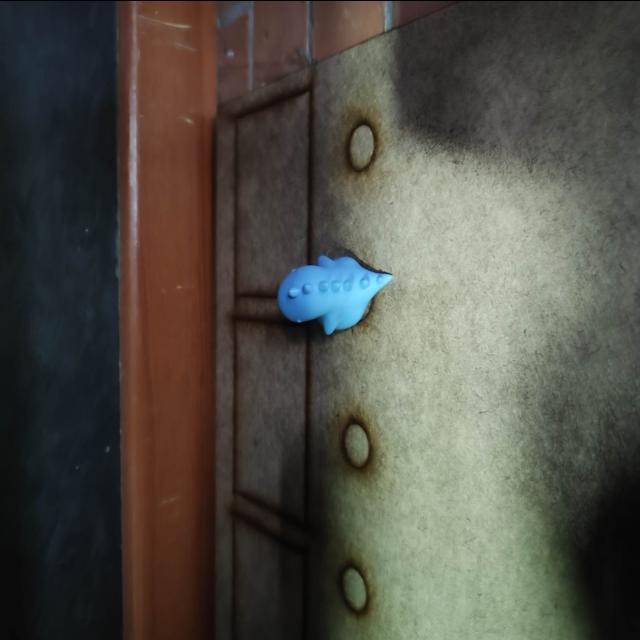DINO: (259, 225, 409, 345)
